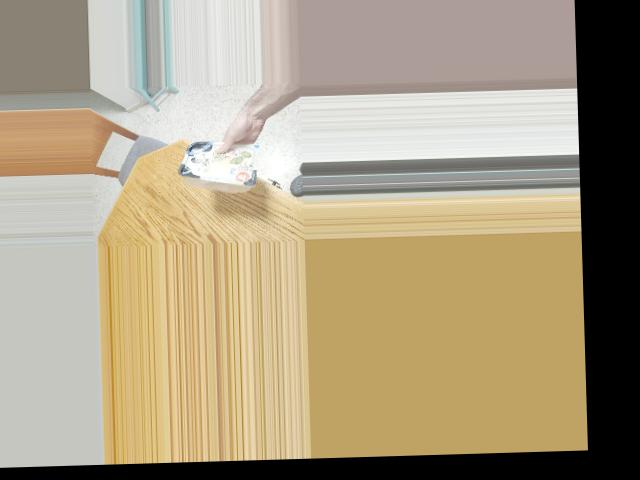cheese: (181, 131, 256, 189)
